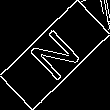N_SE: (24, 23, 86, 87)
